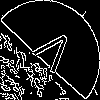V: (25, 25, 77, 82)
